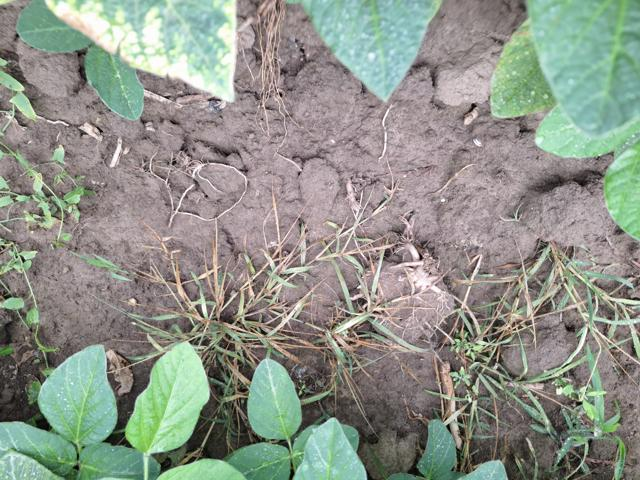bad weed: (86, 177, 427, 427), (445, 213, 639, 480), (0, 41, 93, 411)
